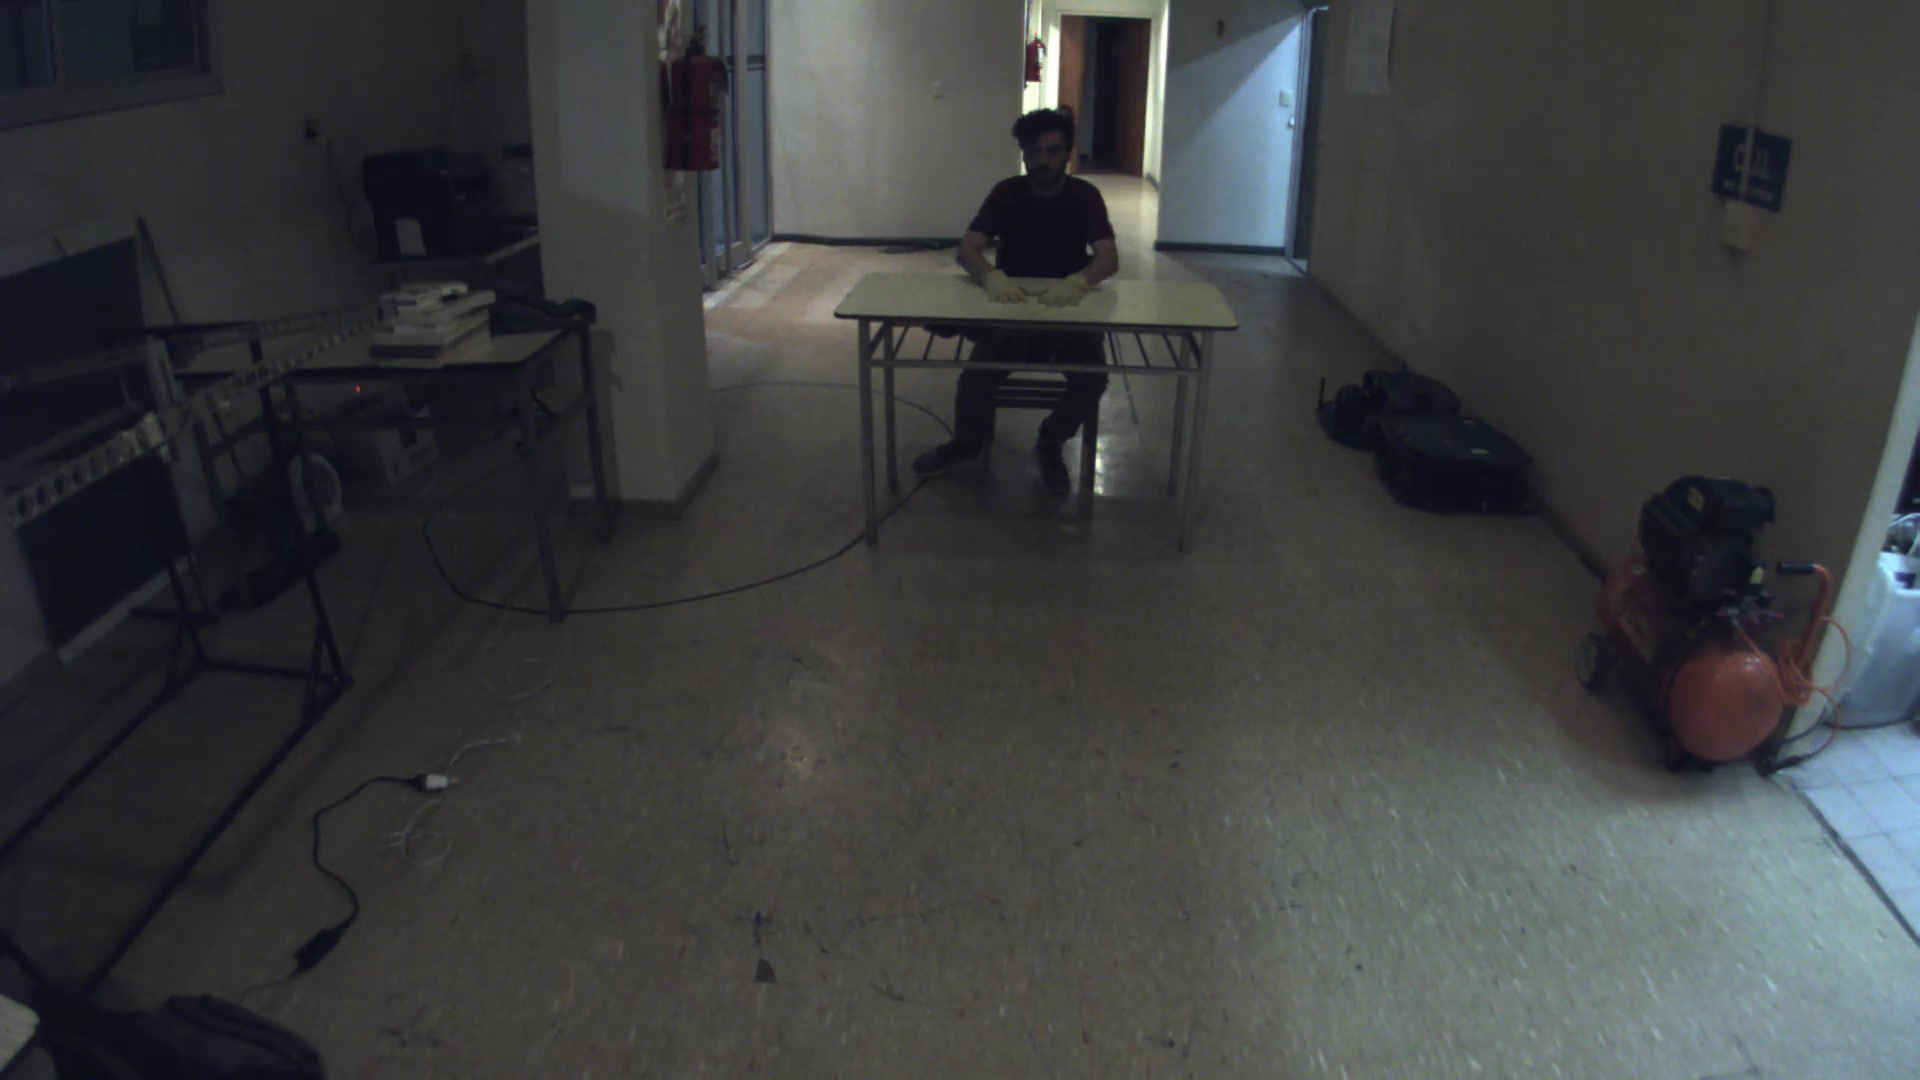hand: (973, 256, 1033, 313), (1035, 270, 1102, 319)
